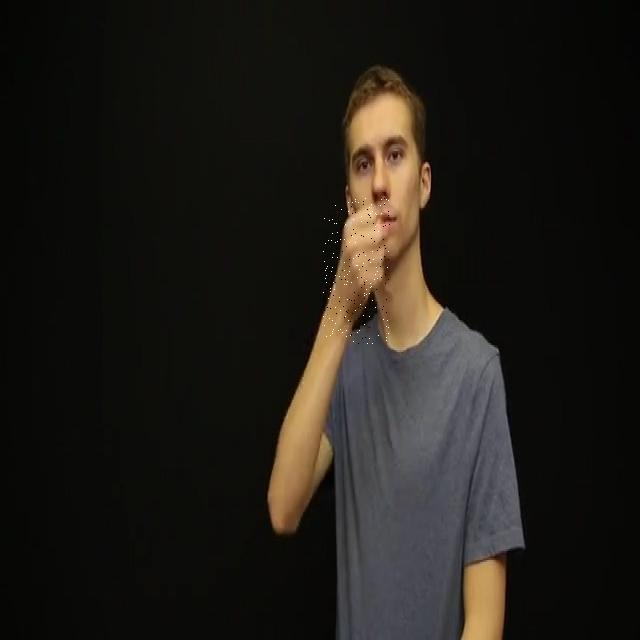icecream: (323, 198, 390, 344)
